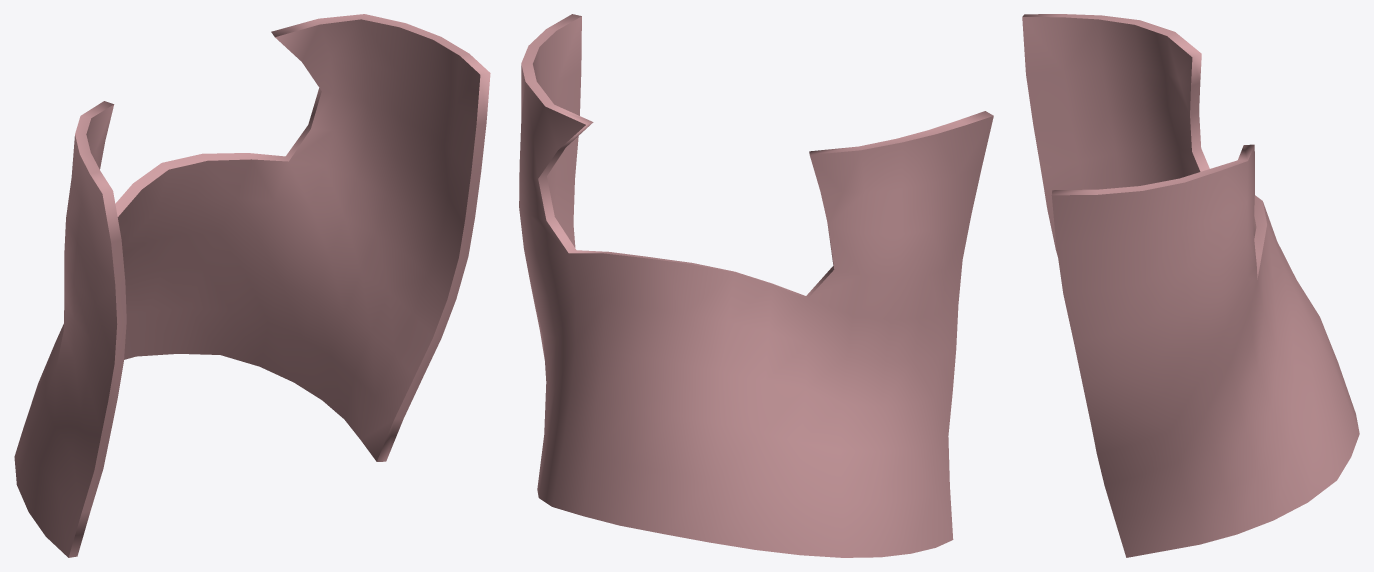
3 views of the same model, side by side, from view 1: azimuth 30°, elevation 25°; view 2: azimuth 150°, elevation 25°; view 3: azimuth 270°, elevation 25° (orthographic). The views are drawn at different scales.
Parts seen in each view (by area): view 1: ZA_4ffc50637c263a93; view 2: ZA_4ffc50637c263a93; view 3: ZA_4ffc50637c263a93.
Boxes of the visible parts, x1,y1,x2,y2 form: ZA_4ffc50637c263a93: (14,14,490,557); ZA_4ffc50637c263a93: (519,14,993,557); ZA_4ffc50637c263a93: (1022,14,1359,557).
Size of the model in its own units: 0.1232 by 0.1199 by 0.0903.
